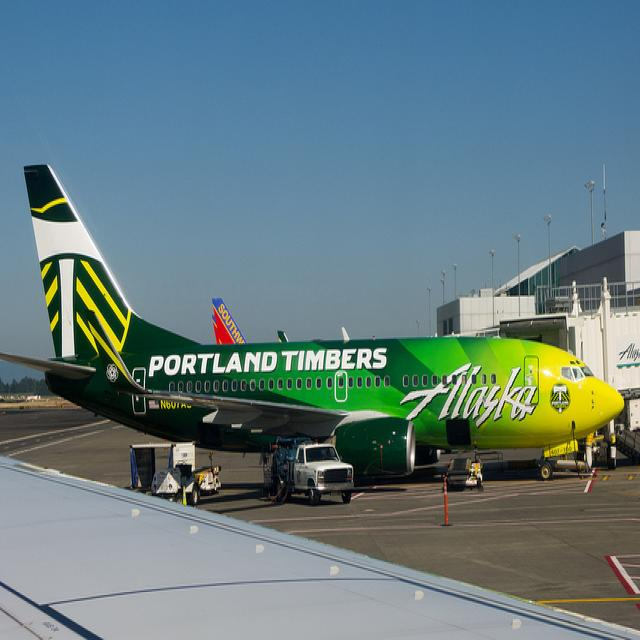Vehicle: (262, 437, 355, 505)
